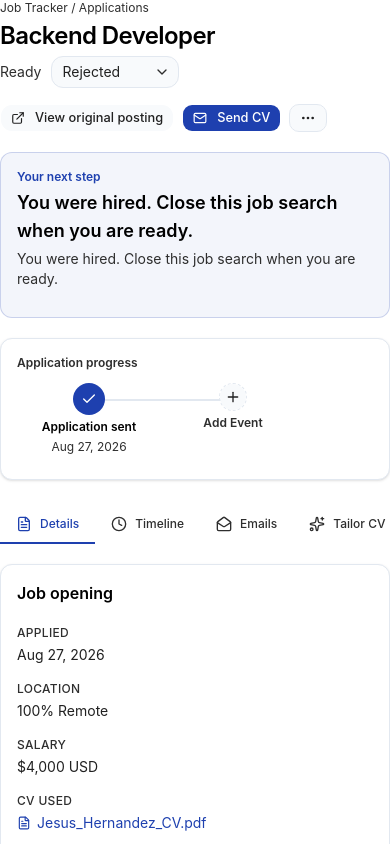
Test: ApplicationDetailView › opens the dedicated email history tab
This screenshot has width=390, height=844.
Click the tab "Emails": (247, 524) left=200, top=504, right=293, bottom=544
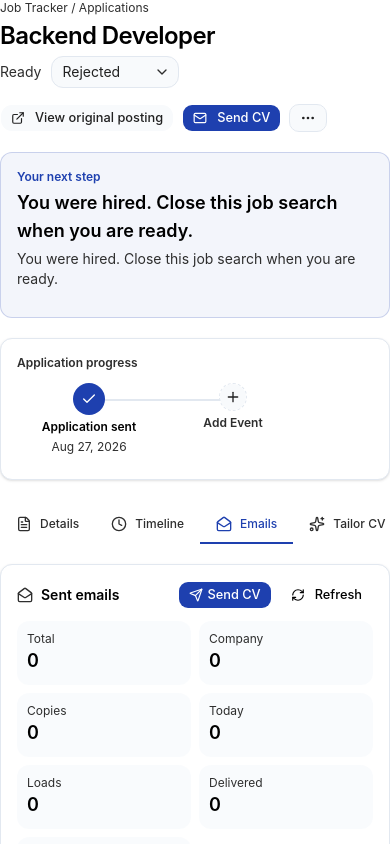
Now the heading "Sent emails" is shown, box left=41, top=585, right=119, bottom=605
